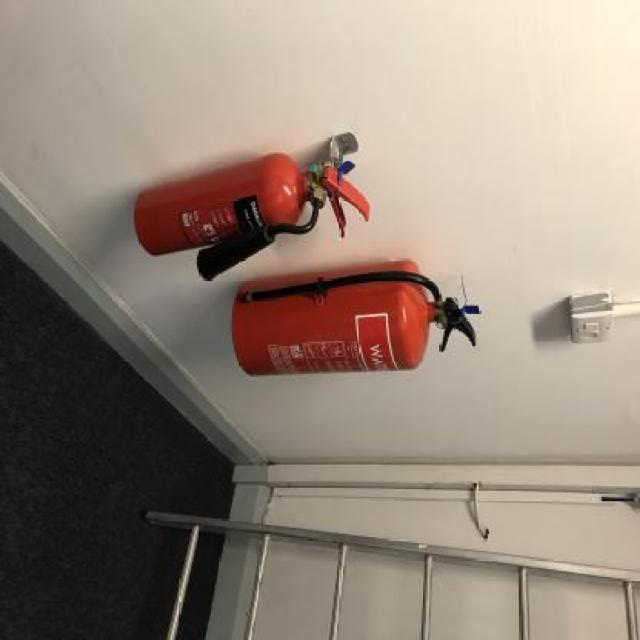fire extinguisher: (231, 255, 484, 380), (134, 151, 369, 281)
